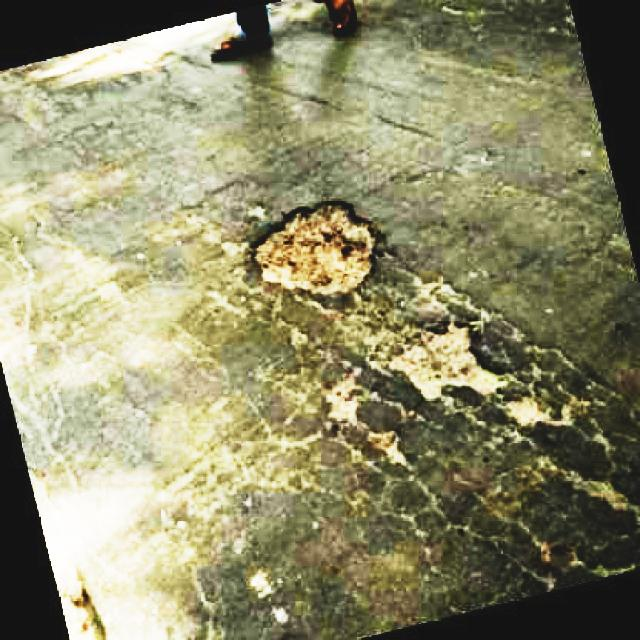pothole: (256, 196, 382, 296), (383, 317, 517, 405)
